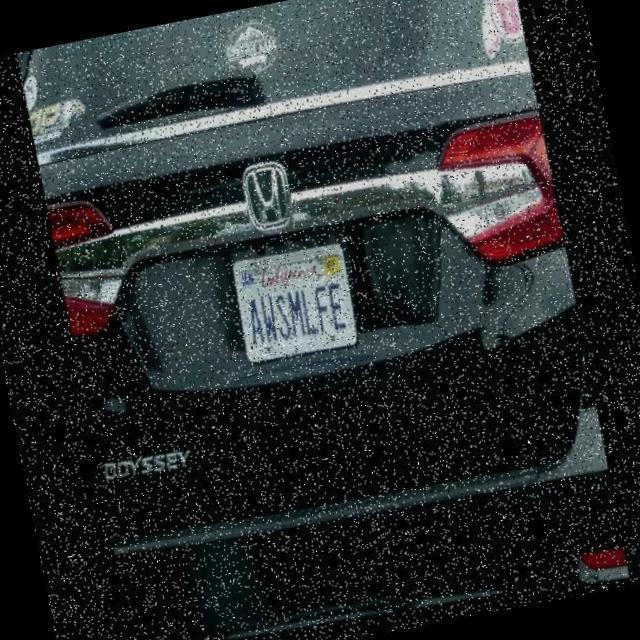License Plate: (230, 236, 362, 372)
